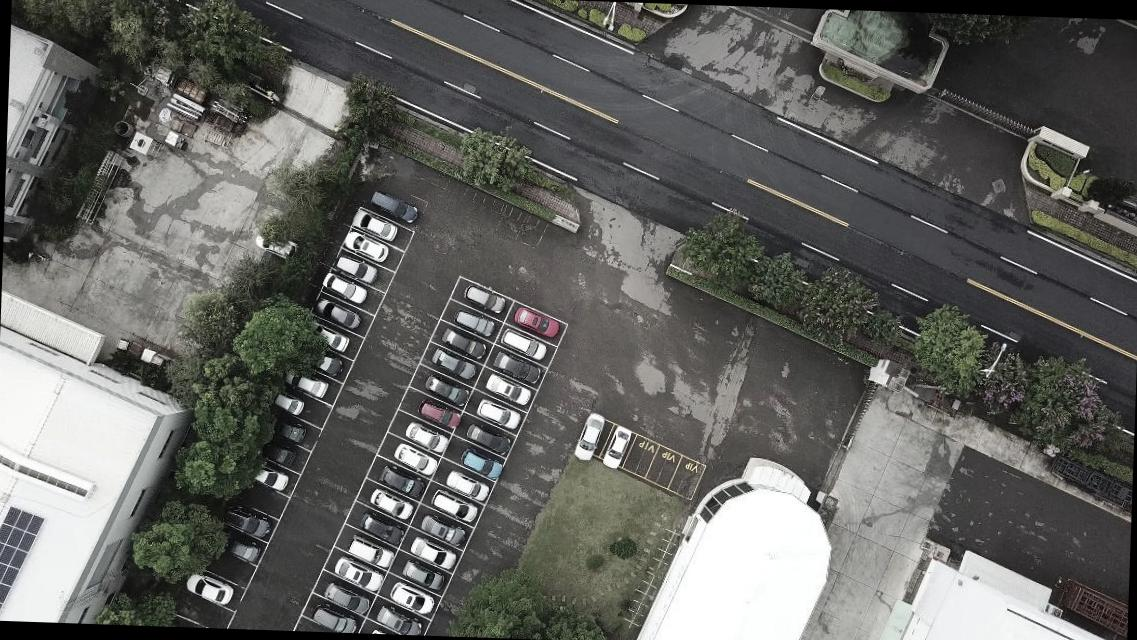vehicle: (332, 554, 382, 591), (183, 570, 234, 606), (222, 504, 274, 539), (368, 188, 418, 224), (390, 439, 436, 478), (357, 508, 404, 546), (466, 420, 512, 458), (420, 511, 467, 548), (511, 303, 560, 338), (492, 349, 541, 383), (374, 601, 423, 635), (430, 347, 478, 381), (573, 412, 605, 463), (483, 372, 532, 405), (440, 326, 486, 361), (348, 533, 394, 568), (429, 489, 477, 522), (324, 580, 368, 616), (314, 296, 360, 330), (444, 468, 490, 502), (390, 580, 434, 615), (498, 326, 546, 358), (408, 536, 456, 568), (475, 396, 520, 430), (402, 420, 448, 453), (424, 375, 471, 407), (379, 464, 423, 498), (322, 271, 366, 304), (332, 252, 377, 284), (366, 488, 411, 520), (414, 398, 459, 430), (460, 444, 502, 478), (310, 602, 356, 633), (343, 230, 387, 262), (284, 368, 327, 400), (461, 282, 503, 314), (402, 558, 444, 590), (352, 210, 395, 240), (307, 320, 348, 351), (452, 306, 494, 336), (253, 233, 297, 261), (602, 424, 630, 468), (255, 466, 290, 492), (272, 420, 308, 445), (264, 442, 296, 469), (226, 540, 259, 566), (272, 391, 306, 415), (313, 353, 344, 378)
